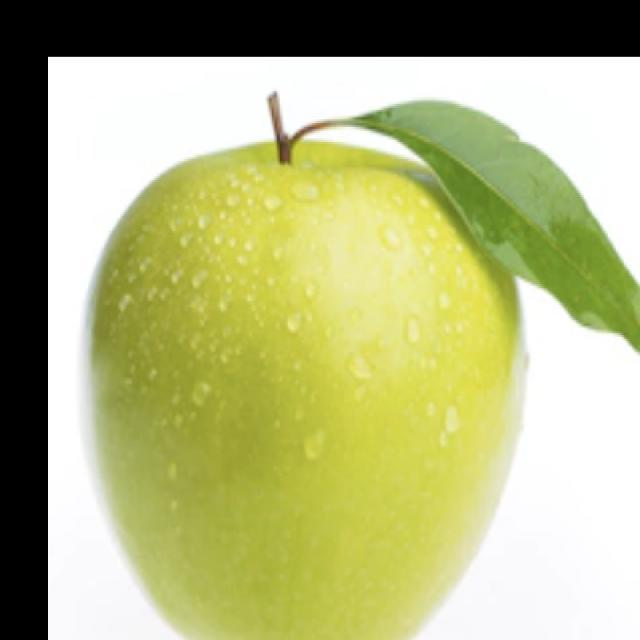Fresh Apple: (88, 142, 536, 640)
